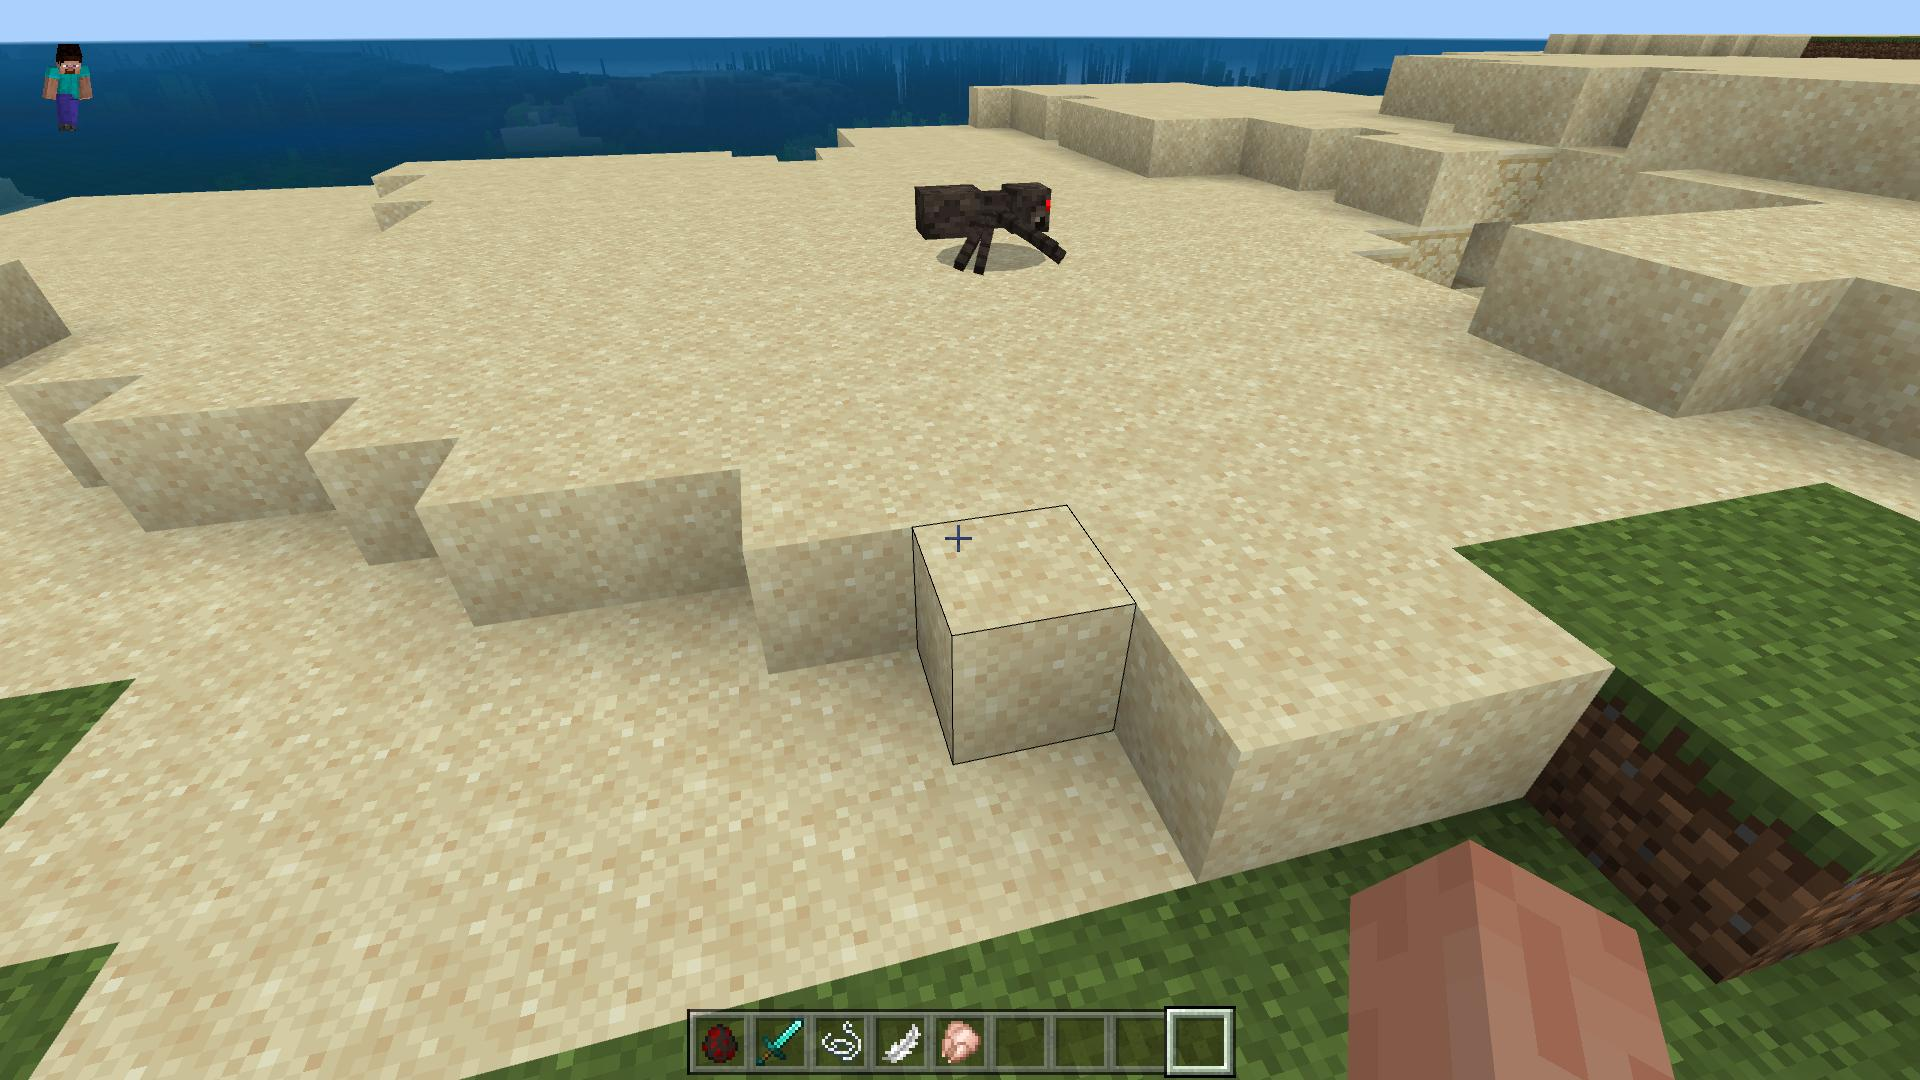spider: (915, 178, 1069, 276)
